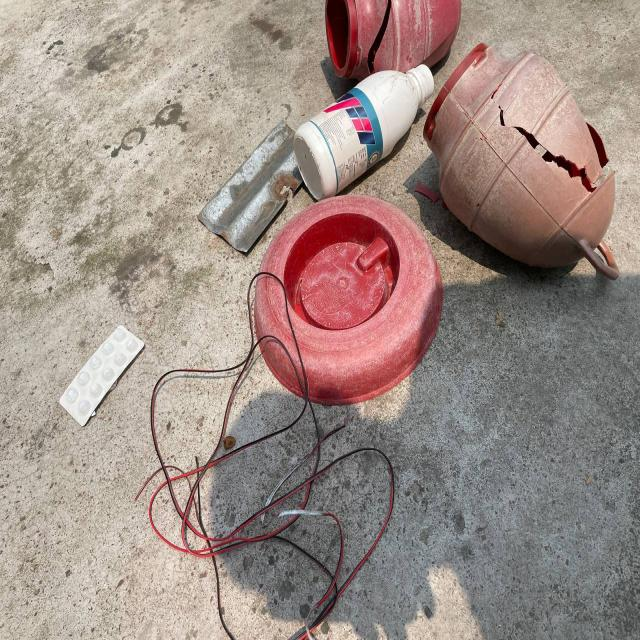Cable: (162, 377, 428, 632)
Medical Waste: (50, 326, 152, 419)
Metal: (196, 123, 294, 258)
Plastics: (295, 0, 640, 393)
